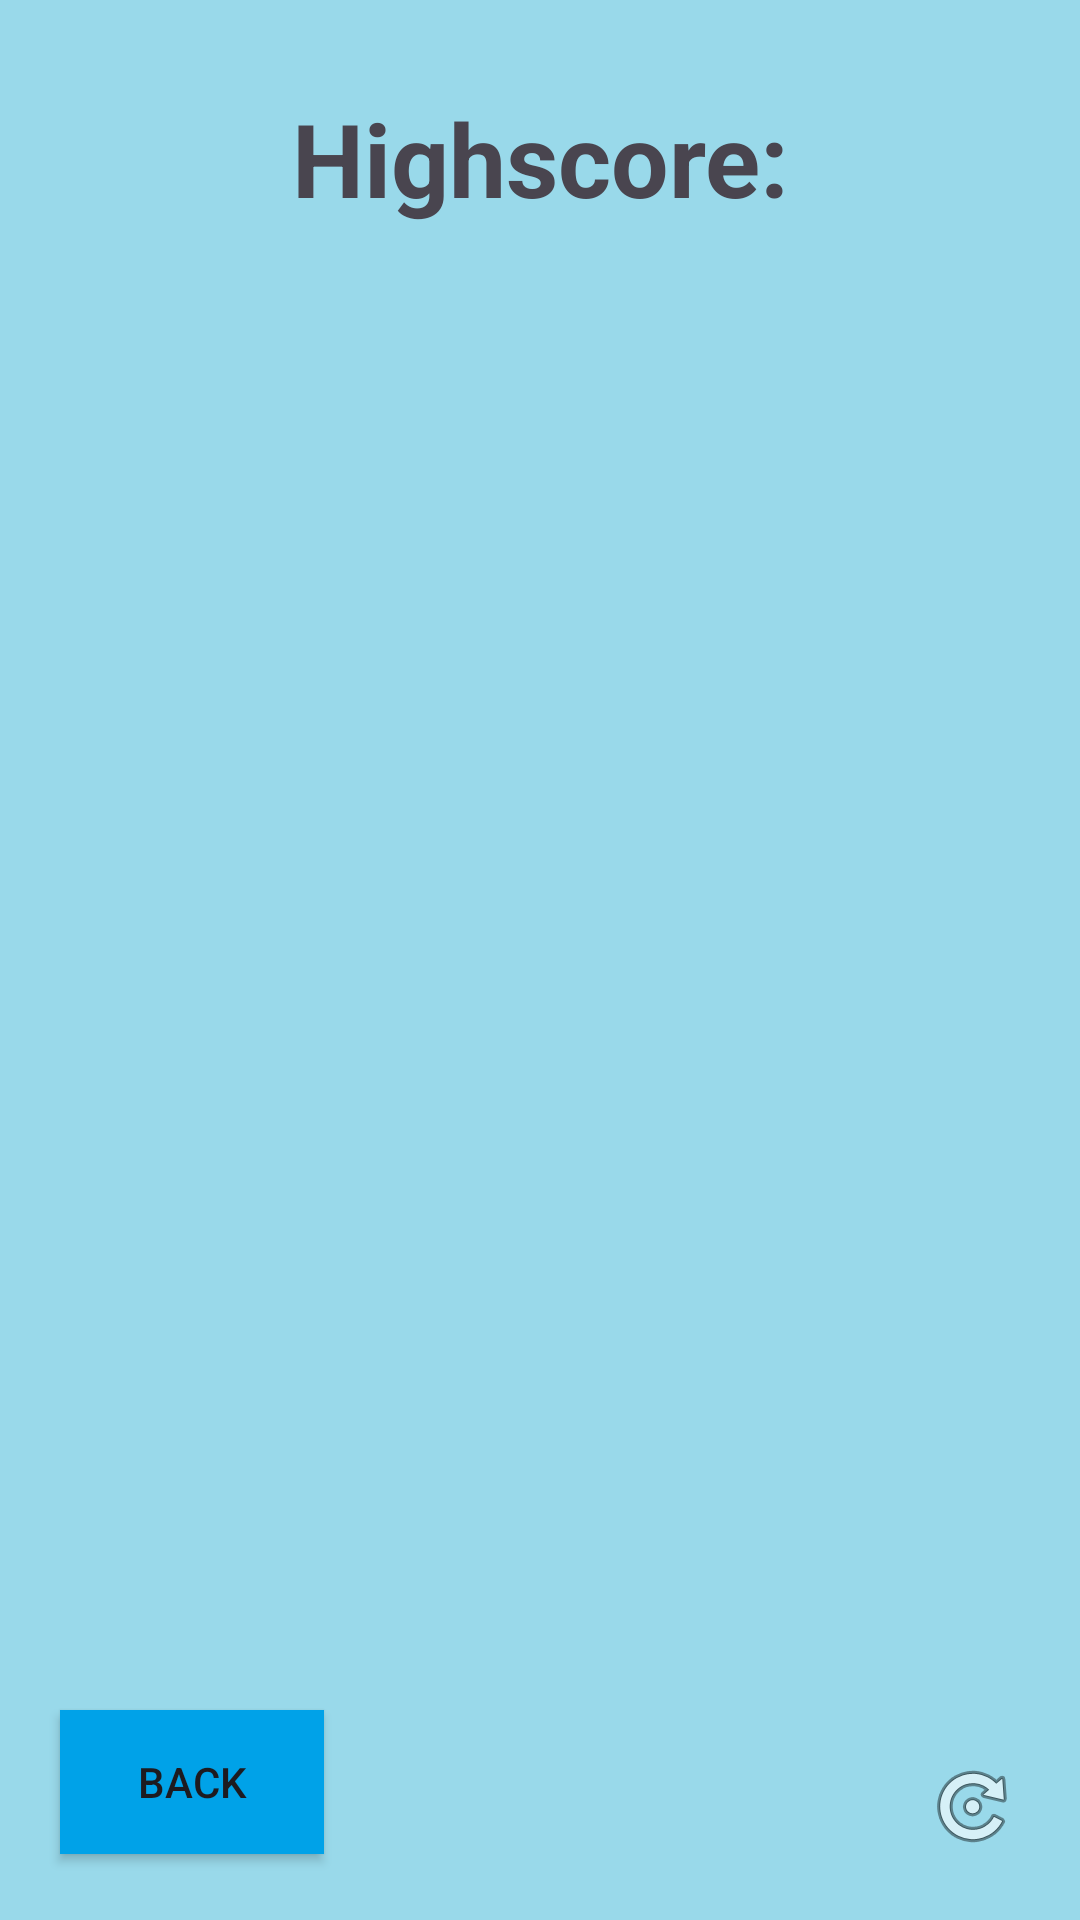

Screen size 1080*1920. Icon name, then its center in pixels as (x=x, y=y):
rotate: (x=972, y=1806)
